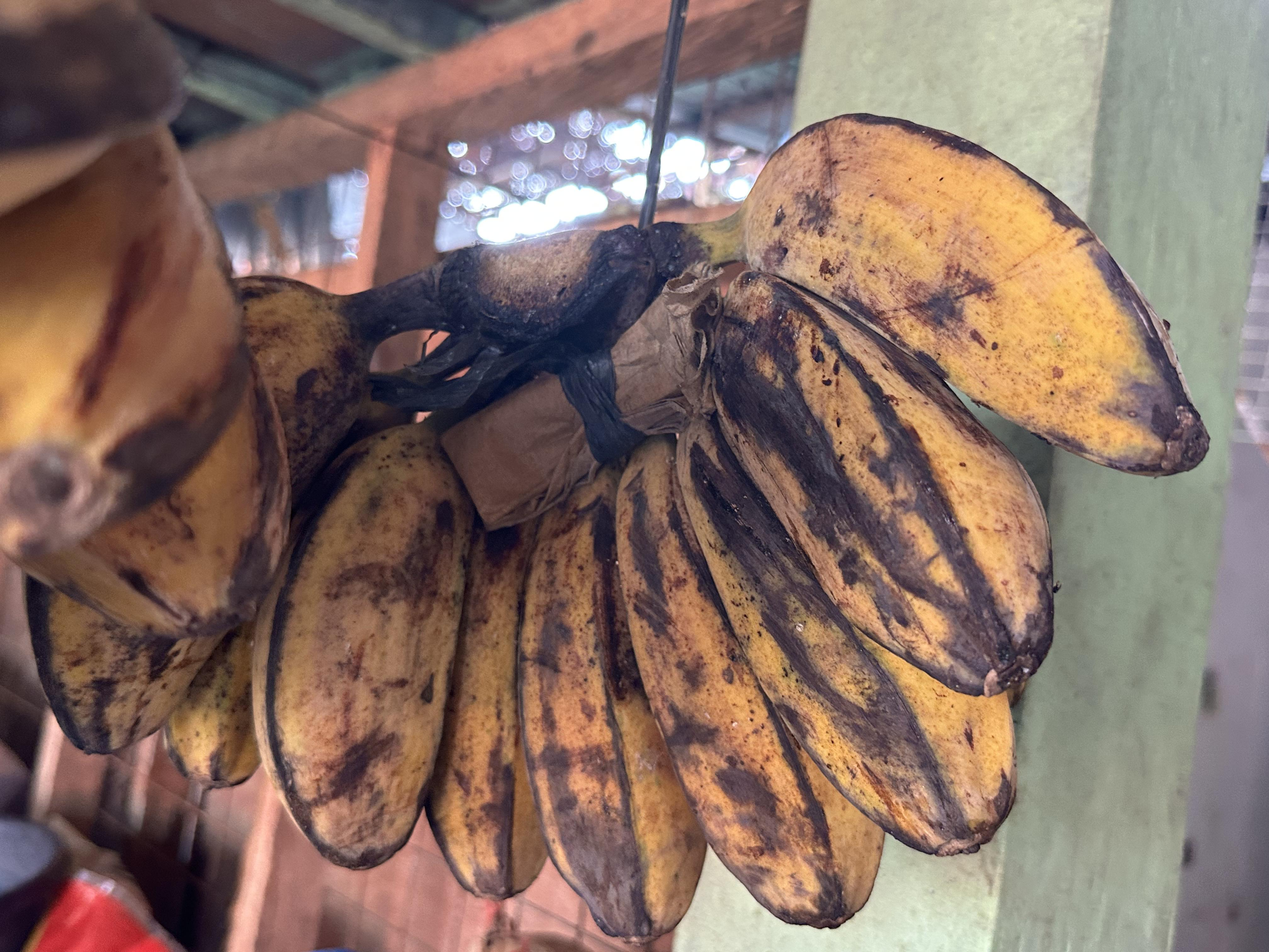ripe: (22, 113, 1209, 948), (0, 0, 290, 638)
